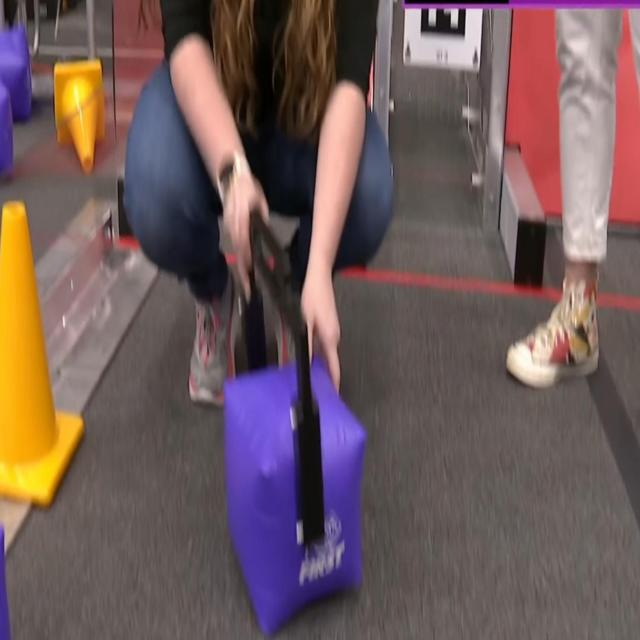frc_cone: (2, 196, 88, 507), (53, 58, 110, 172)
frc_cube: (225, 356, 364, 627), (0, 24, 34, 116), (0, 522, 15, 640), (0, 86, 16, 173)
